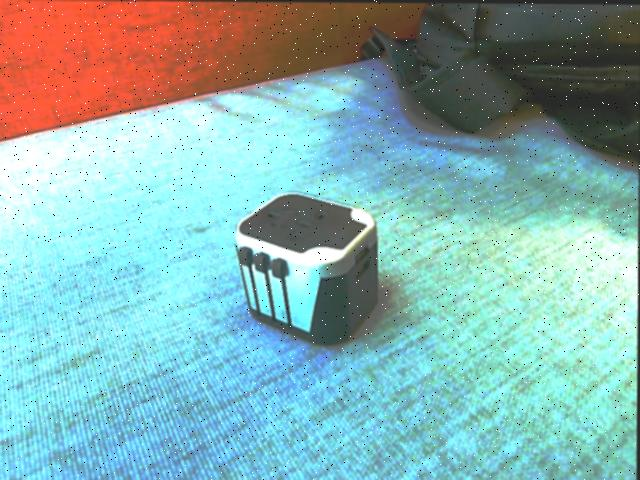adapter: (234, 191, 379, 345)
